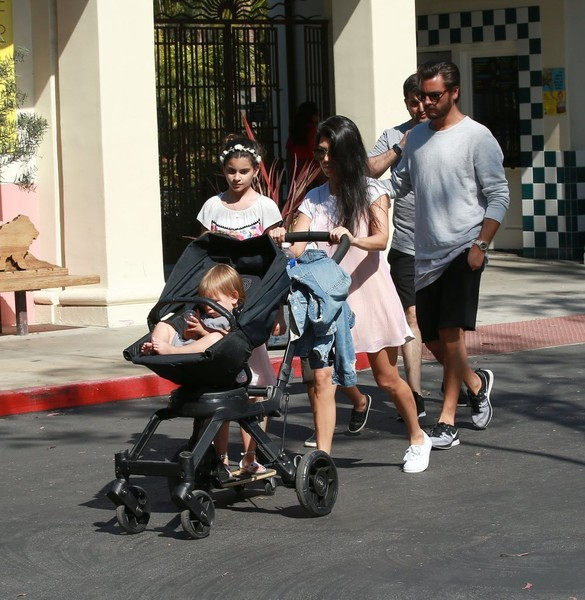Person: (301, 115, 431, 452), (408, 61, 511, 448), (140, 263, 246, 355), (194, 137, 284, 235)
